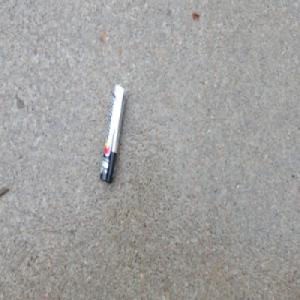Battery: (97, 82, 126, 185)
